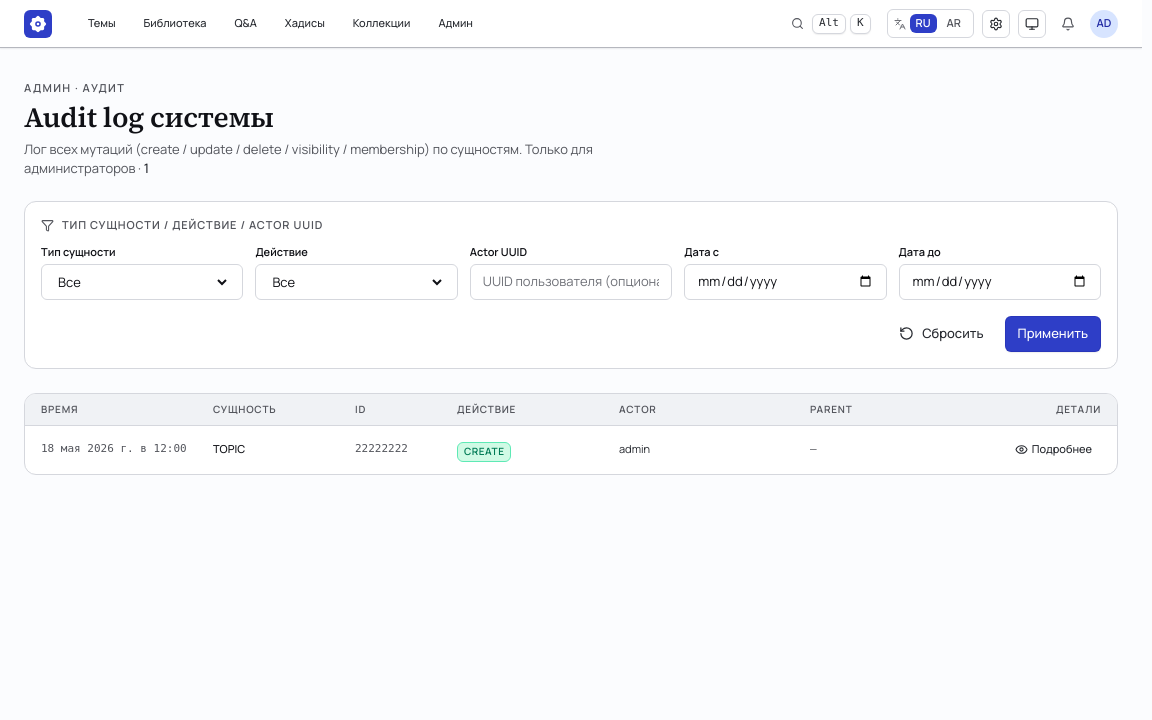
Test: AdminAuditPage › View Details открывает modal с JSON changes
The width and height of the screenshot is (1152, 720).
Expected: the heading "Audit log системы" is shown, left=24, top=98, right=274, bottom=136
Note: button "Подробнее" в строке
Click the button "Подробнее": (1053, 450) left=1006, top=436, right=1101, bottom=464
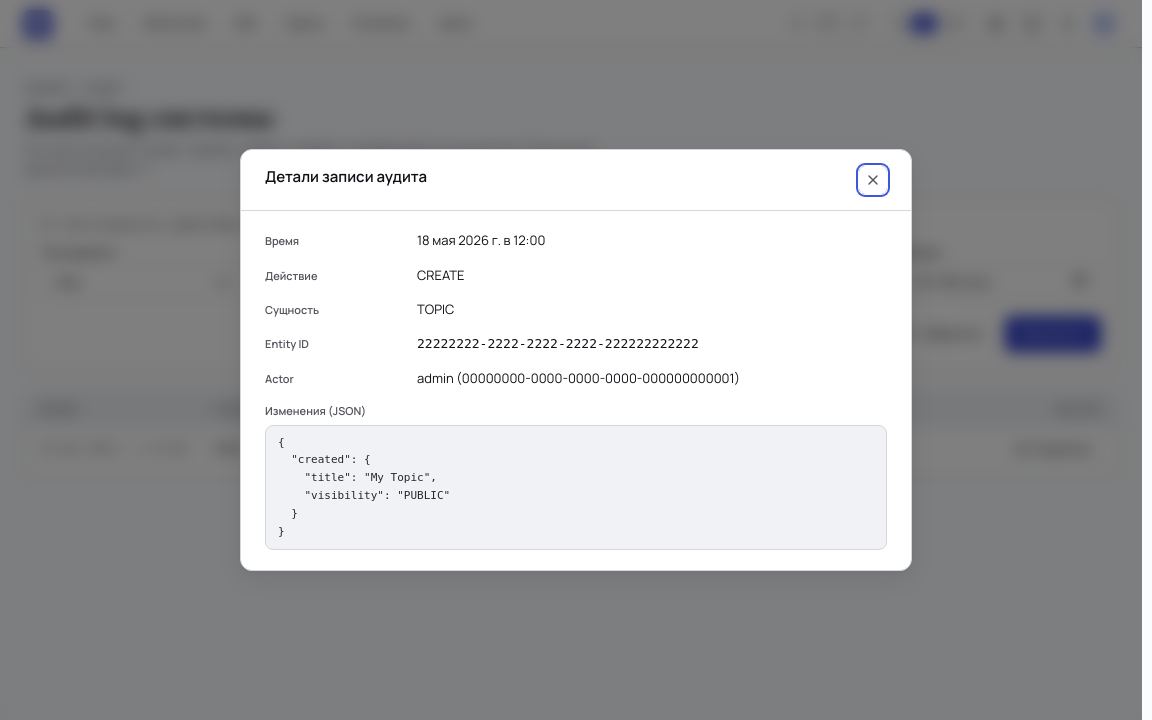
Result: the text "PUBLIC" is shown at left=278, top=436, right=450, bottom=538
